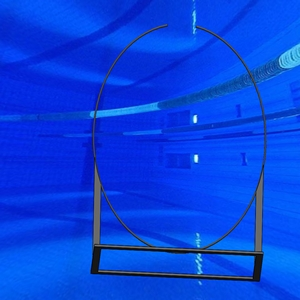circle: (89, 23, 268, 283)
